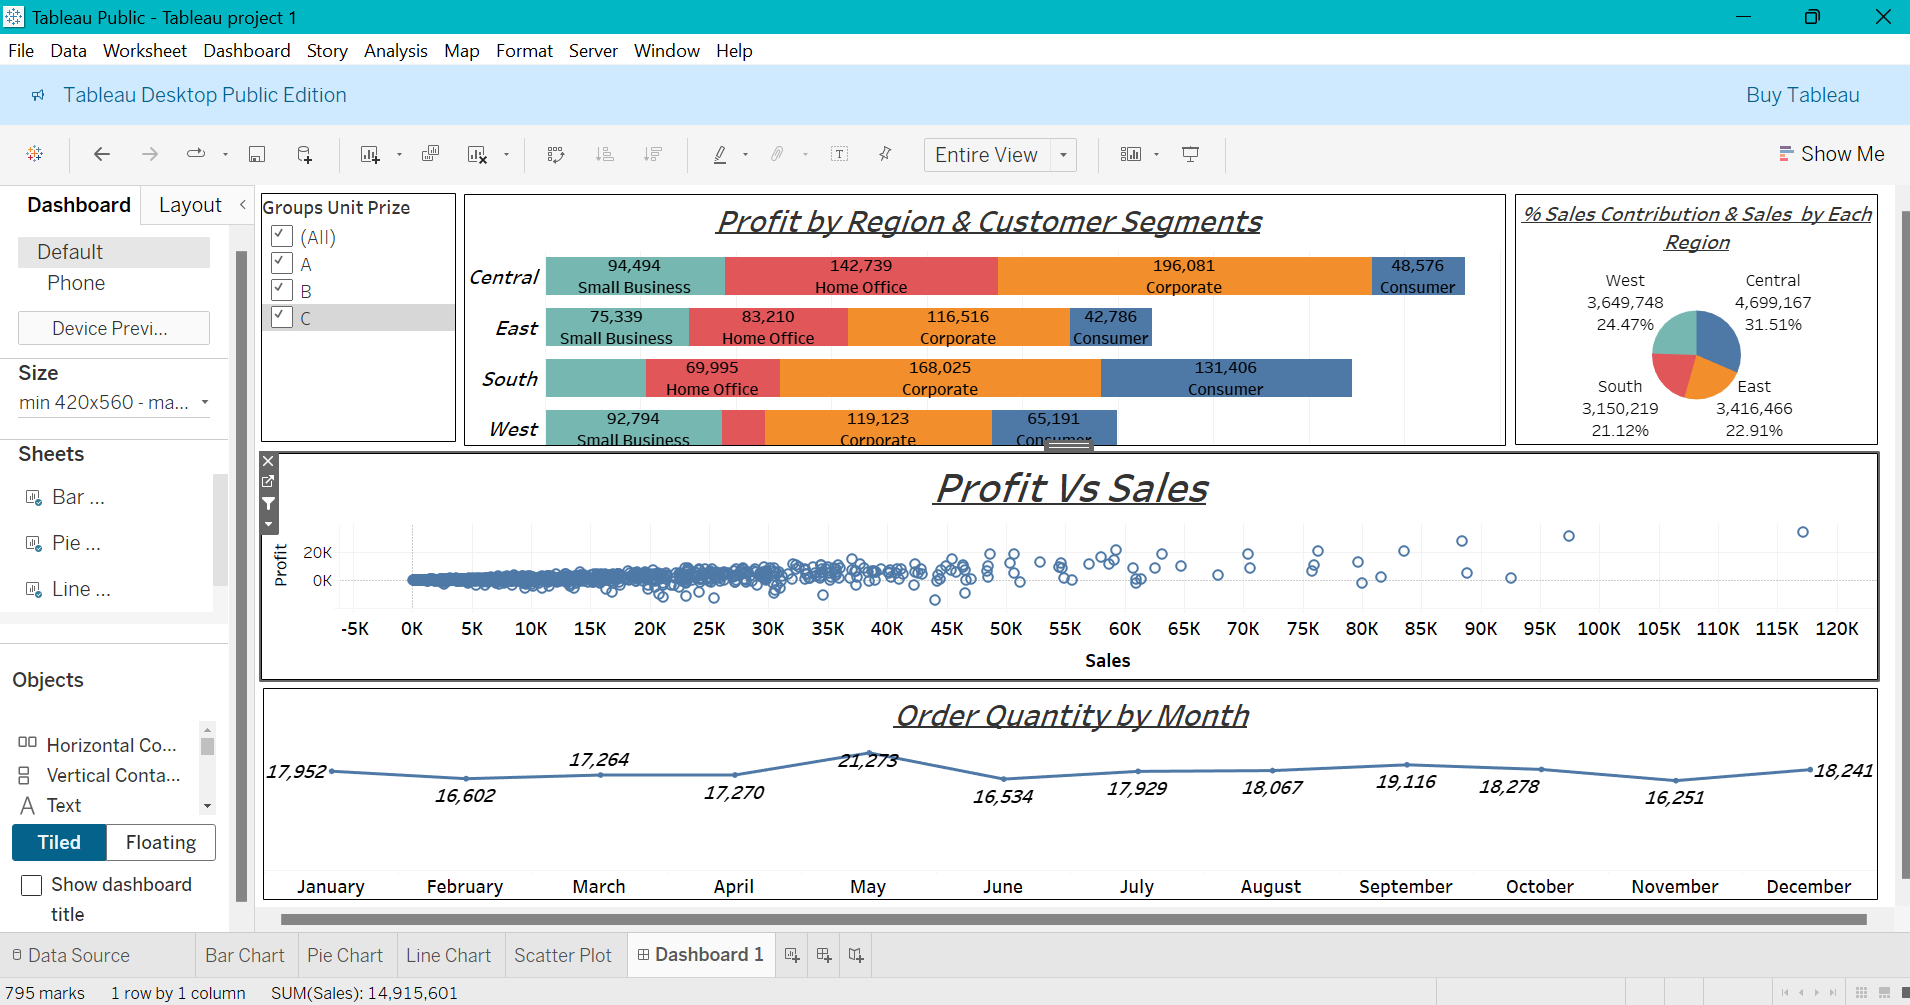

The dashboard page shown, as its layout file describes it:
{"tool":"tableau","page":{"name":"Dashboard 1","canvas":[1000,1000],"units":"permille","ordinal":0},"visuals":[{"type":"filter","title":"Line Chart","param":"[federated.0ueuc811j5gr1t143djfg1iiceqj].[none:Calculation_1265230040716103680:n","box":[3.7,11.1,119,345.4]},{"type":"worksheet","title":"Bar Chart","mark":"Automatic","rows":["Region"],"cols":["Profit"],"box":[127.5,12.5,635.8,349.5]},{"type":"worksheet","title":"Pie Chart","mark":"Pie","box":[768.9,12.5,221.3,348.1]},{"type":"worksheet","title":"Scatter Plot","mark":"Automatic","rows":["Profit"],"cols":["Sales"],"box":[3.7,371.7,986.5,314.8]},{"type":"worksheet","title":"Line Chart","mark":"Line","rows":["Order Quantity"],"cols":["Order Date"],"box":[4.9,697.6,985.3,294]}]}

Visuals, with their boxes on the dashboard's canvas, which has no fixed pixel size, in thousandths of its width and height (x1, y1, x2, y2). These are canvas units, not pixel positions in the 1910x1005 screenshot, which may show the page scaled, cropped or inside an application window:
"Line Chart" filter: x1=4 y1=11 x2=123 y2=356
"Bar Chart" worksheet: x1=128 y1=12 x2=763 y2=362
"Pie Chart" worksheet (Pie marks): x1=769 y1=12 x2=990 y2=361
"Scatter Plot" worksheet: x1=4 y1=372 x2=990 y2=686
"Line Chart" worksheet (Line marks): x1=5 y1=698 x2=990 y2=992
